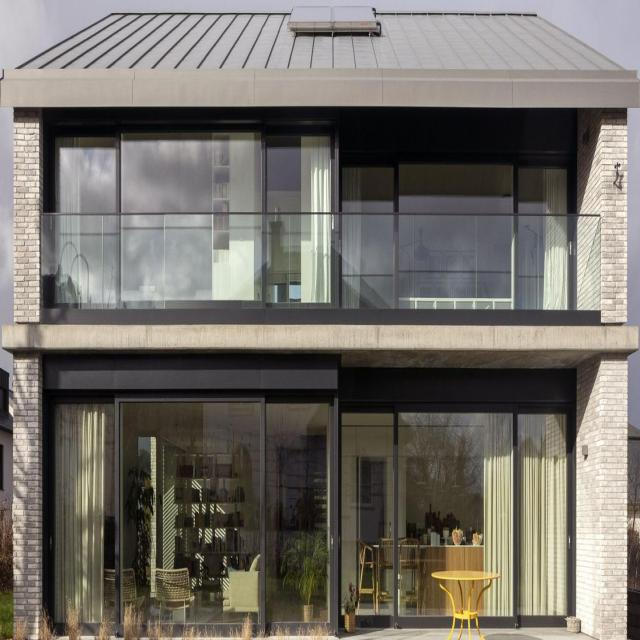Railing: (41, 212, 601, 318)
door: (264, 394, 337, 639)
wall: (0, 8, 640, 639)
windows: (43, 369, 575, 639), (56, 132, 576, 209)
